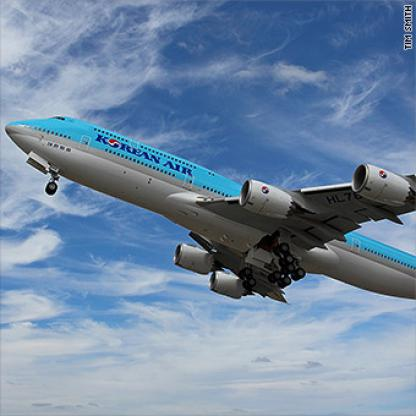CIV_Plane: (2, 107, 415, 305)
